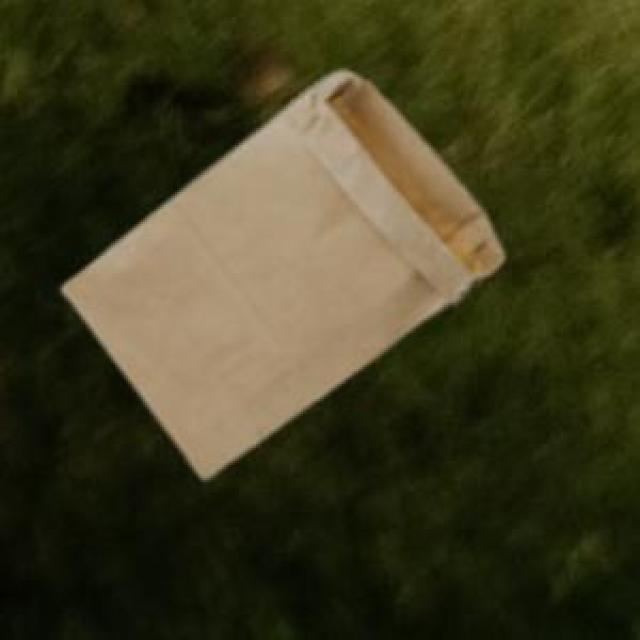paper: (60, 68, 499, 474)
